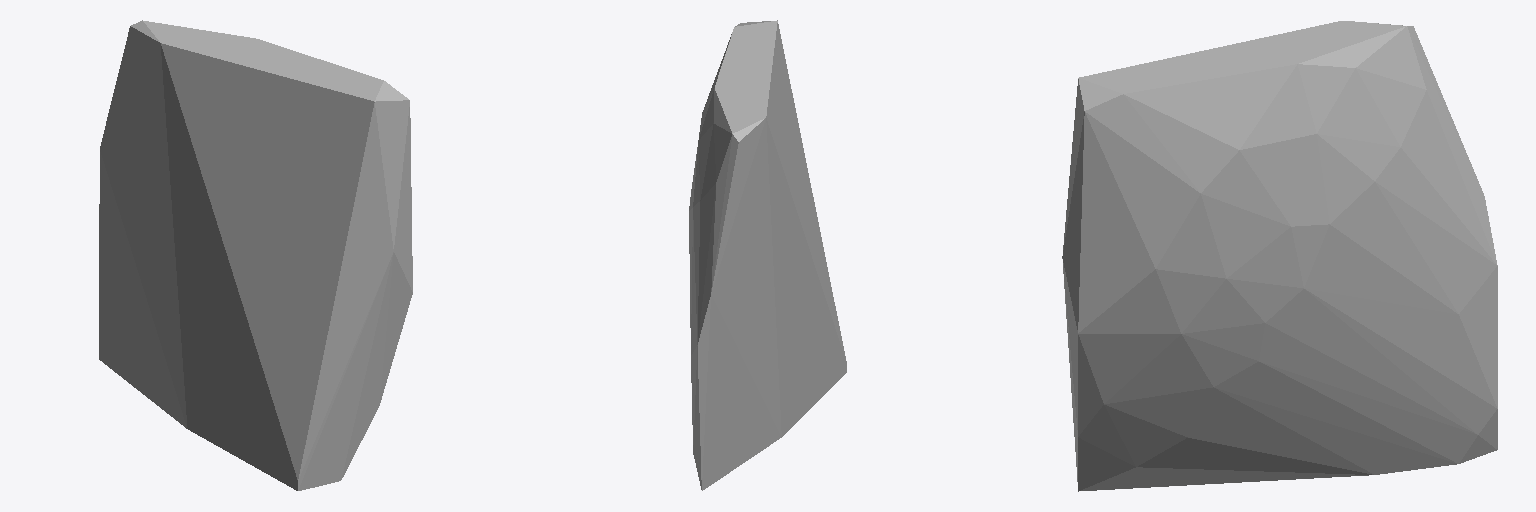
The robot description file, URDF, robot "root":
<?xml version='1.0' encoding='utf-8'?>
<robot name="root">
  <link name="link_001">
    <visual>
      <origin xyz="0 0 0" rpy="0 0 0" />
      <geometry>
        <mesh filename="4bee92d9b2263d6a08bc6c0c7ad57317ed28a34977c7b34a0ea254c4275be5ff_scale_388.stl" scale="1.0000E+00 1.0000E+00 1.0000E+00" />
      </geometry>
      <material name="">
        <color rgba="7.50E-01 7.50E-01 7.50E-01 1" />
      </material>
    </visual>
    <collision>
      <origin xyz="0 0 0" rpy="0 0 0" />
      <geometry>
        <mesh filename="4bee92d9b2263d6a08bc6c0c7ad57317ed28a34977c7b34a0ea254c4275be5ff_scale_388.stl" scale="1.0000E+00 1.0000E+00 1.0000E+00" />
      </geometry>
    </collision>
  </link>
</robot>

--- What the picture shows (computed from the rendered views, not written in the file) ---
Views: 3 orthographic renders of the robot side by side, from view 1: azimuth 30°, elevation 25°; view 2: azimuth 150°, elevation 25°; view 3: azimuth 270°, elevation 25°.
Model root with 1 links and 0 joints (none), rooted at link_001, posed every joint at zero.
Visible links, largest first — view 1: link_001; view 2: link_001; view 3: link_001.
Boxes of the visible links, left/top/right/bottom form: link_001: left=99, top=20, right=412, bottom=490; link_001: left=689, top=20, right=846, bottom=490; link_001: left=1062, top=21, right=1497, bottom=491.
Bounding box of the posed robot: 0.0345 × 0.0803 × 0.0881 m (x, y, z).
1 mesh visuals loaded from 1 distinct referenced files (1 binary STL).
